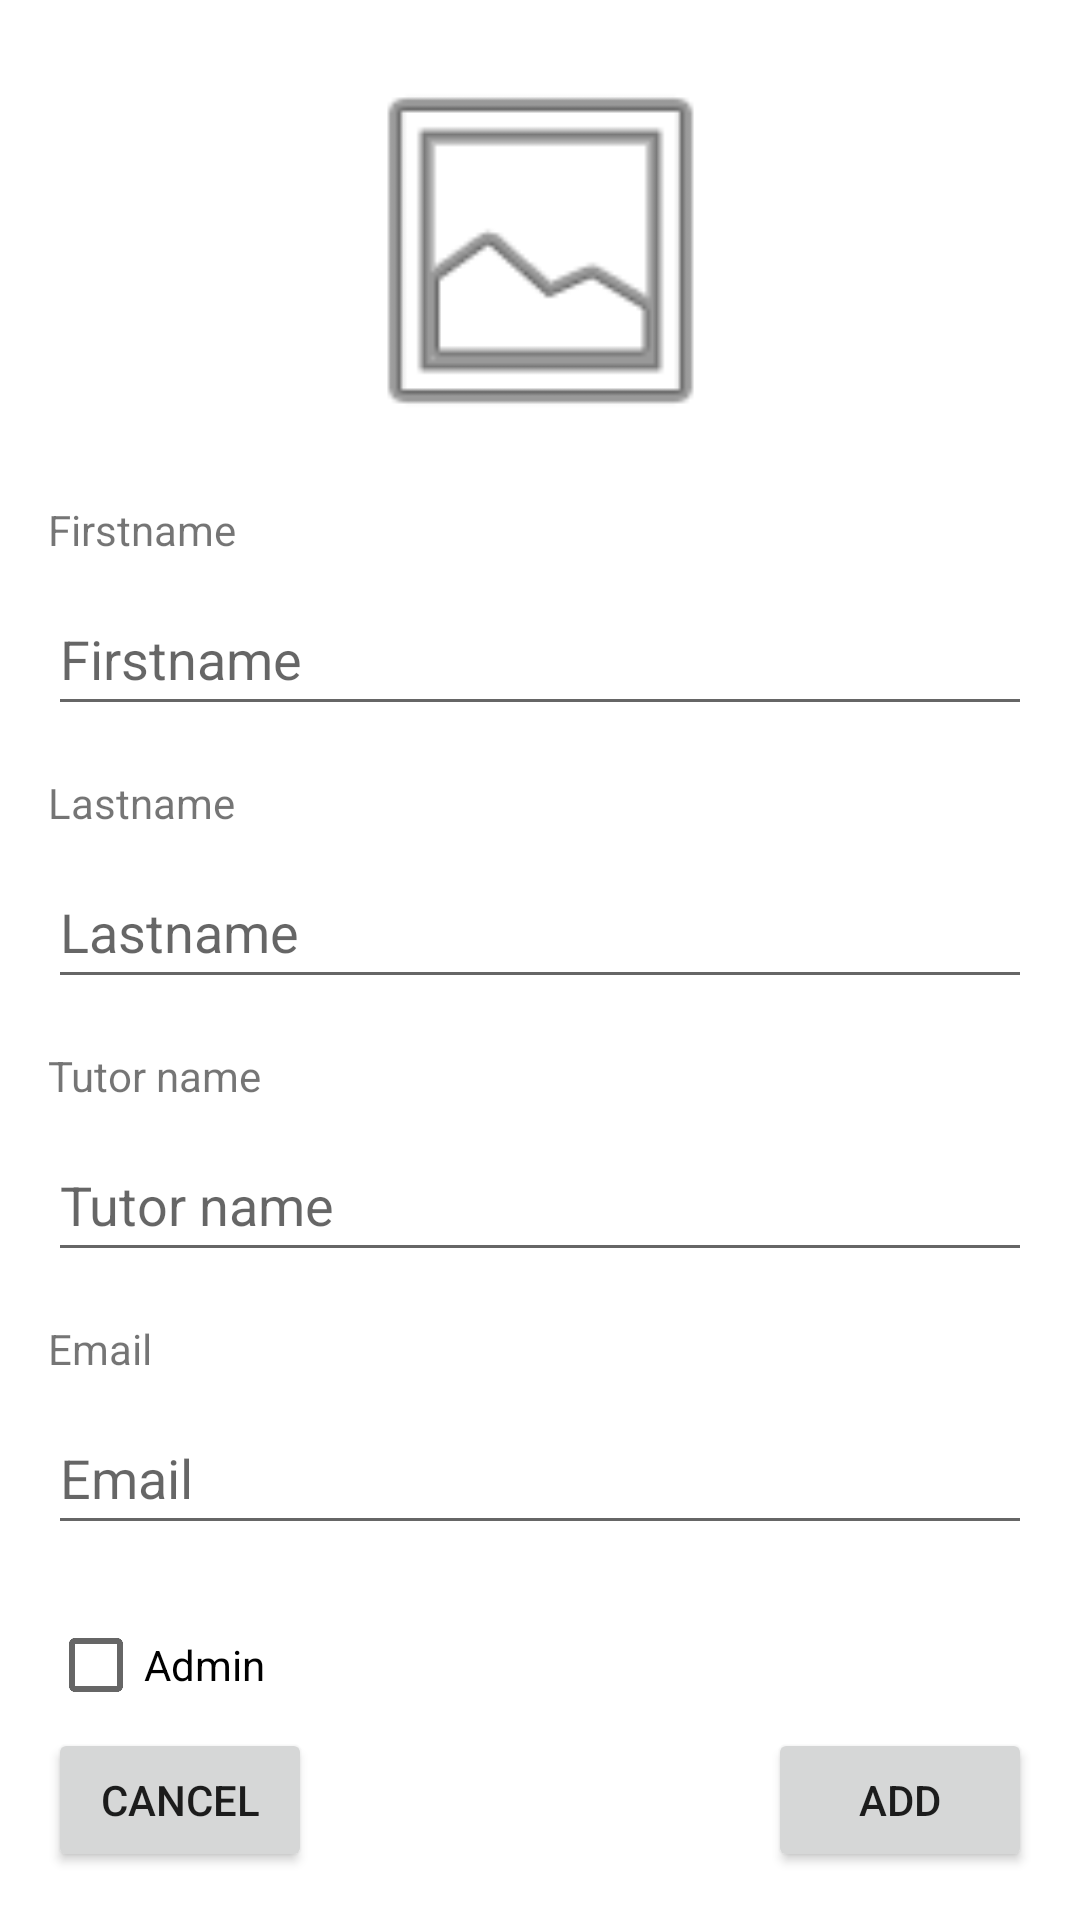

Screen size 1080*1920. Icon name, then its box in pixels as detection(x1, y1, x2, y2):
gallery: detection(388, 97, 693, 404)
